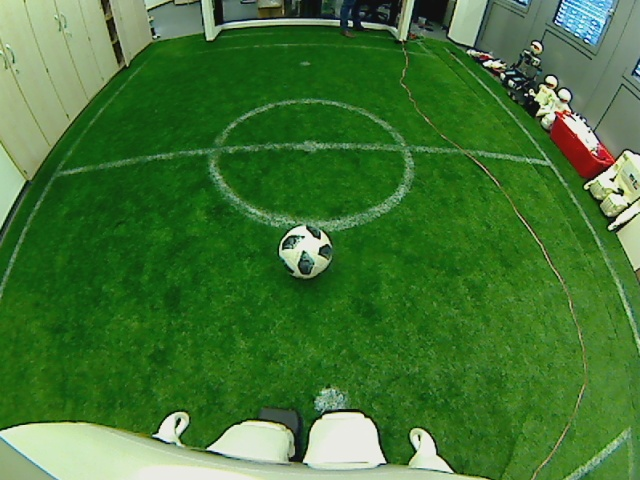ball: (275, 222, 335, 278)
